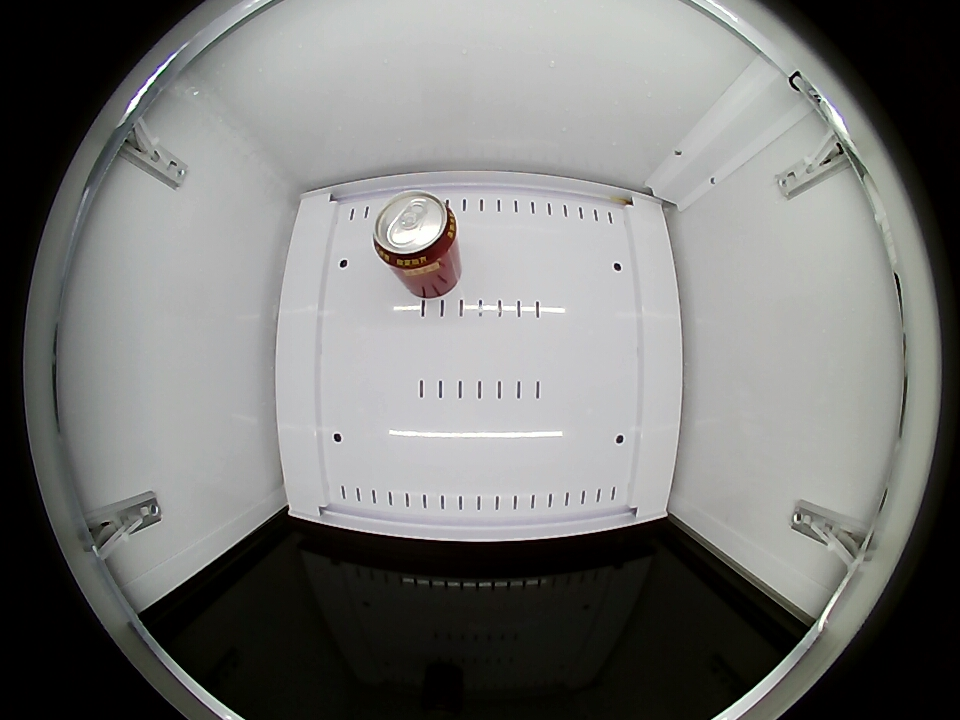wanglaoji-c: (372, 192, 458, 271)
